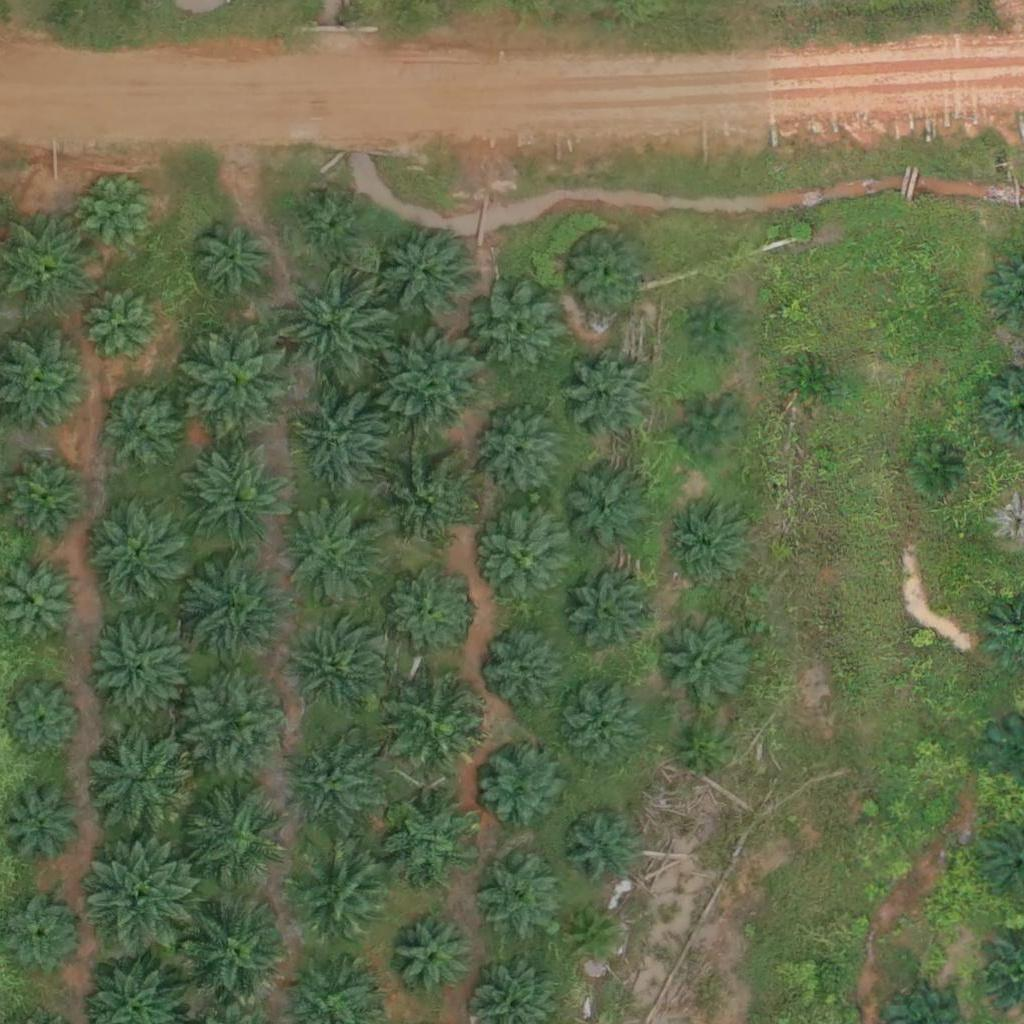Kelapa_Sawit: (280, 258, 405, 383), (82, 839, 195, 953), (182, 322, 295, 435), (187, 441, 300, 554), (181, 550, 294, 663), (181, 668, 293, 782), (184, 897, 296, 1011), (84, 726, 196, 840), (281, 837, 393, 950), (295, 388, 395, 489), (285, 503, 385, 604), (285, 624, 385, 725), (383, 334, 483, 435), (375, 450, 475, 551), (389, 673, 489, 774), (384, 794, 484, 895), (91, 500, 191, 600), (94, 614, 194, 714), (288, 735, 388, 835), (184, 786, 284, 886), (481, 512, 569, 601), (384, 232, 472, 320), (385, 567, 473, 655), (481, 624, 569, 712), (480, 744, 568, 832), (664, 499, 752, 587), (478, 849, 566, 937), (191, 218, 278, 307), (79, 171, 166, 259), (2, 677, 89, 765), (475, 286, 562, 374), (477, 411, 564, 499), (565, 353, 652, 441), (563, 466, 650, 554), (563, 568, 650, 656), (557, 686, 644, 774), (664, 618, 751, 706), (388, 915, 475, 1003), (570, 232, 645, 308), (7, 462, 82, 538), (2, 566, 77, 642), (109, 395, 184, 471), (84, 288, 159, 363), (566, 811, 641, 886), (681, 398, 743, 461), (304, 195, 366, 258), (782, 352, 844, 414), (677, 728, 727, 779), (571, 909, 621, 960), (691, 308, 741, 358), (912, 447, 962, 497)
